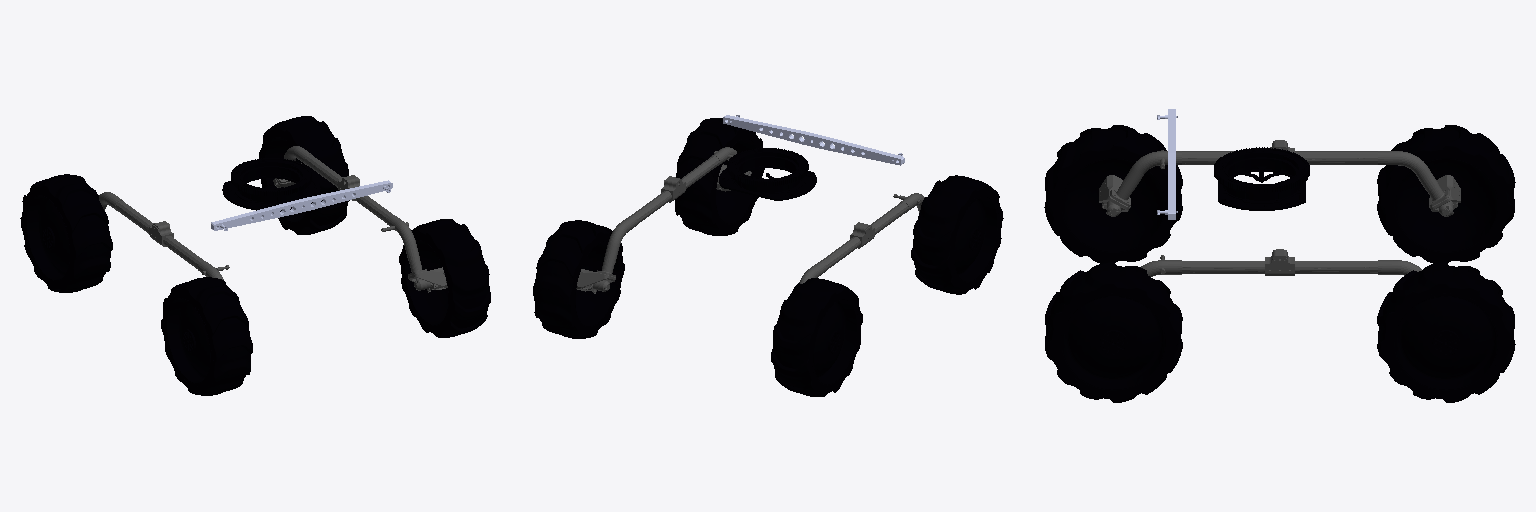
robot.urdf — core_rover_description:
<?xml version="1.0" encoding="utf-8"?>
<!-- This URDF was automatically created by SolidWorks to URDF Exporter! Originally created by [author] ([email redacted]) 
     Commit Version:   Build Version: 1.6.9403.28032
     For more information, please see http://wiki.ros.org/sw_urdf_exporter -->
<robot
  name="core_rover_description">

  <link
    name="base_link">
    <inertial>
      <origin
        xyz="-6.65913085716885E-06 0.109571969438869 -0.0865730790907174"
        rpy="0 0 0" />
      <mass
        value="75.3855391061812" />
      <inertia
        ixx="2.40019927956544"
        ixy="0.000116237424420155"
        ixz="-0.00156114013755156"
        iyy="2.05138658583389"
        iyz="0.00559155518698155"
        izz="4.26537268155378" />
    </inertial>
    <visual>
      <origin
        xyz="0 0 0"
        rpy="0 0 0" />
      <geometry>
        <mesh
          filename="package://core_rover_description/meshes/base_link.STL" />
      </geometry>
      <material
        name="">
        <color
          rgba="0.01764195448412081 0.013702083043526807 0.030713443727452196 1" />
      </material>
    </visual>
    <collision>
      <origin
        xyz="0 0 0"
        rpy="0 0 0" />
      <geometry>
        <mesh
          filename="package://core_rover_description/meshes/base_link.STL" />
      </geometry>
    </collision>
  </link>

  <link
    name="right_suspension_member">
    <inertial>
      <origin
        xyz="0.0011302 -0.12483 0.029359"
        rpy="0 0 0" />
      <mass
        value="1.7681" />
      <inertia
        ixx="0.0021448"
        ixy="-1.4957E-06"
        ixz="-2.5225E-08"
        iyy="0.0068473"
        iyz="0.00021191"
        izz="0.0058417" />
    </inertial>
    <visual>
      <origin
        xyz="0 0 0"
        rpy="0 0 0" />
      <geometry>
        <mesh
          filename="package://core_rover_description/meshes/right_suspension_member.STL" />
      </geometry>
      <material
        name="">
        <color
          rgba="0.35 0.35 0.35 1" />
      </material>
    </visual>
    <collision>
      <origin
        xyz="0 0 0"
        rpy="0 0 0" />
      <geometry>
        <mesh
          filename="package://core_rover_description/meshes/right_suspension_member.STL" />
      </geometry>
    </collision>
  </link>

  <joint
    name="right_suspension_joint"
    type="revolute">
    <origin
      xyz="-0.33067 0.028531 -0.15443"
      rpy="1.5708 0 -1.5708" />
    <parent
      link="base_link" />
    <child
      link="right_suspension_member" />
    <axis
      xyz="0 0 -1" />
    <limit
      lower="-0.38"
      upper="0.38"
      effort="0"
      velocity="0" />
    <mimic
      joint="left_suspension_joint"
      multiplier="1"
      offset="0" />
  </joint>

  <link
    name="br_wheel">
    <inertial>
      <origin
        xyz="-0.0476013497459569 -1.09801088221673E-08 6.12845485470359E-09"
        rpy="0 0 0" />
      <mass
        value="5.74175792756056" />
      <inertia
        ixx="0.115468209215025"
        ixy="7.19767266741869E-10"
        ixz="-2.90603405999934E-10"
        iyy="0.0647068246341468"
        iyz="7.16669744358495E-07"
        izz="0.0632464587169257" />
    </inertial>
    <visual>
      <origin
        xyz="0 0 0"
        rpy="0 0 0" />
      <geometry>
        <mesh
          filename="package://core_rover_description/meshes/br_wheel.STL" />
      </geometry>
      <material
        name="">
        <color
          rgba="0.01764195448412081 0.013702083043526807 0.030713443727452196 1" />
      </material>
    </visual>
    <collision>
      <origin
        xyz="0 0 0"
        rpy="0 0 0" />
      <geometry>
        <mesh
          filename="package://core_rover_description/meshes/br_wheel.STL" />
      </geometry>
    </collision>
  </link>

  <joint
    name="br_wheel_axis"
    type="continuous">
    <origin
      xyz="-0.41838 -0.17155 0.12984"
      rpy="0.52965 -1.5708 0" />
    <parent
      link="right_suspension_member" />
    <child
      link="br_wheel" />
    <axis
      xyz="1 0 0" />
  </joint>

  <link
    name="fr_wheel">
    <inertial>
      <origin
        xyz="-0.0476013497450763 -1.09822306249008E-08 6.12913009234717E-09"
        rpy="0 0 0" />
      <mass
        value="5.74175792767292" />
      <inertia
        ixx="0.115468209216444"
        ixy="7.20424942594475E-10"
        ixz="-2.90800382125705E-10"
        iyy="0.0647068246345494"
        iyz="7.16670201096685E-07"
        izz="0.063246458718483" />
    </inertial>
    <visual>
      <origin
        xyz="0 0 0"
        rpy="0 0 0" />
      <geometry>
        <mesh
          filename="package://core_rover_description/meshes/fr_wheel.STL" />
      </geometry>
      <material
        name="">
        <color
          rgba="0.01764195448412081 0.013702083043526807 0.030713443727452196 1" />
      </material>
    </visual>
    <collision>
      <origin
        xyz="0 0 0"
        rpy="0 0 0" />
      <geometry>
        <mesh
          filename="package://core_rover_description/meshes/fr_wheel.STL" />
      </geometry>
    </collision>
  </link>

  <joint
    name="fr_wheel_joint"
    type="continuous">
    <origin
      xyz="0.41838 -0.17155 0.12984"
      rpy="1.5769 -1.5708 0" />
    <parent
      link="right_suspension_member" />
    <child
      link="fr_wheel" />
    <axis
      xyz="1 0 0" />
  </joint>

  <link
    name="averaging_bar">
    <inertial>
      <origin
        xyz="5.12266309124314E-10 0.0103345512865068 6.28647148226413E-10"
        rpy="0 0 0" />
      <mass
        value="0.872230516841863" />
      <inertia
        ixx="0.000102234478668288"
        ixy="1.26173058927933E-11"
        ixz="-1.00509715989169E-11"
        iyy="0.0236921798518964"
        iyz="1.54032135551904E-11"
        izz="0.0236577000709469" />
    </inertial>
    <visual>
      <origin
        xyz="0 0 0"
        rpy="0 0 0" />
      <geometry>
        <mesh
          filename="package://core_rover_description/meshes/averaging_bar.STL" />
      </geometry>
      <material
        name="">
        <color
          rgba="0.792156862745098 0.819607843137255 0.933333333333333 1" />
      </material>
    </visual>
    <collision>
      <origin
        xyz="0 0 0"
        rpy="0 0 0" />
      <geometry>
        <mesh
          filename="package://core_rover_description/meshes/averaging_bar.STL" />
      </geometry>
    </collision>
  </link>

  <joint
    name="averaging_bar_axis"
    type="revolute">
    <origin
      xyz="0 -0.23362 -0.0508"
      rpy="0 -0.0060774 -3.1416" />
    <parent
      link="base_link" />
    <child
      link="averaging_bar" />
    <axis
      xyz="0 -1 0" />
    <limit
      lower="-0.38"
      upper="0.38"
      effort="0"
      velocity="0" />
    <mimic
      joint="left_suspension_joint"
      multiplier="-1"
      offset="0" />
  </joint>

  <link
    name="left_suspension_member">
    <inertial>
      <origin
        xyz="0 0 0"
        rpy="0 0 0" />
      <mass
        value="1.7681" />
      <inertia
        ixx="0"
        ixy="0"
        ixz="0"
        iyy="0"
        iyz="0"
        izz="0" />
    </inertial>
    <visual>
      <origin
        xyz="0 0 0"
        rpy="0 0 0" />
      <geometry>
        <mesh
          filename="package://core_rover_description/meshes/left_suspension_member.STL" />
      </geometry>
      <material
        name="">
        <color
          rgba="0.35 0.35 0.35 1" />
      </material>
    </visual>
    <collision>
      <origin
        xyz="0 0 0"
        rpy="0 0 0" />
      <geometry>
        <mesh
          filename="package://core_rover_description/meshes/left_suspension_member.STL" />
      </geometry>
    </collision>
  </link>

  <joint
    name="left_suspension_joint"
    type="revolute">
    <origin
      xyz="0.33067 0.028531 -0.15443"
      rpy="1.5708 0 1.5708" />
    <parent
      link="base_link" />
    <child
      link="left_suspension_member" />
    <axis
      xyz="0 0 -1" />
    <limit
      lower="-0.38"
      upper="0.38"
      effort="0"
      velocity="0" />
  </joint>

  <link
    name="bl_wheel">
    <inertial>
      <origin
        xyz="-0.0476013497470983 -1.09827822947217E-08 6.12940226352165E-09"
        rpy="0 0 0" />
      <mass
        value="5.7417579274106" />
      <inertia
        ixx="0.115468209213072"
        ixy="7.20585760708907E-10"
        ixz="-2.90859312873504E-10"
        iyy="0.0647068246335877"
        iyz="7.16669141063303E-07"
        izz="0.0632464587148044" />
    </inertial>
    <visual>
      <origin
        xyz="0 0 0"
        rpy="0 0 0" />
      <geometry>
        <mesh
          filename="package://core_rover_description/meshes/bl_wheel.STL" />
      </geometry>
      <material
        name="">
        <color
          rgba="0.01764195448412081 0.013702083043526807 0.030713443727452196 1" />
      </material>
    </visual>
    <collision>
      <origin
        xyz="0 0 0"
        rpy="0 0 0" />
      <geometry>
        <mesh
          filename="package://core_rover_description/meshes/bl_wheel.STL" />
      </geometry>
    </collision>
  </link>

  <joint
    name="bl_wheel_joint"
    type="continuous">
    <origin
      xyz="0.41838 -0.17155 0.12984"
      rpy="1.5769 -1.5708 0" />
    <parent
      link="left_suspension_member" />
    <child
      link="bl_wheel" />
    <axis
      xyz="1 0 0" />
  </joint>

  <link
    name="fl_wheel">
    <inertial>
      <origin
        xyz="-0.0476013497448114 -1.09827921201955E-08 6.12933048760311E-09"
        rpy="0 0 0" />
      <mass
        value="5.74175792770551" />
      <inertia
        ixx="0.115468209216877"
        ixy="7.20541990109492E-10"
        ixz="-2.90874836866816E-10"
        iyy="0.0647068246346634"
        iyz="7.16670369639572E-07"
        izz="0.06324645871897" />
    </inertial>
    <visual>
      <origin
        xyz="0 0 0"
        rpy="0 0 0" />
      <geometry>
        <mesh
          filename="package://core_rover_description/meshes/fl_wheel.STL" />
      </geometry>
      <material
        name="">
        <color
          rgba="0.01764195448412081 0.013702083043526807 0.030713443727452196 1" />
      </material>
    </visual>
    <collision>
      <origin
        xyz="0 0 0"
        rpy="0 0 0" />
      <geometry>
        <mesh
          filename="package://core_rover_description/meshes/fl_wheel.STL" />
      </geometry>
    </collision>
  </link>

  <joint
    name="fl_wheel_joint"
    type="continuous">
    <origin
      xyz="-0.418377874454344 -0.171553199039643 0.129841324042317"
      rpy="0.529654981264331 -1.5707963267949 0" />
    <parent
      link="left_suspension_member" />
    <child
      link="fl_wheel" />
    <axis
      xyz="1 0 0" />
  </joint>

</robot>

--- What the picture shows (computed from the rendered views, not written in the file) ---
3 views of the same robot in one strip: view 1: azimuth 30°, elevation 25°; view 2: azimuth 150°, elevation 25°; view 3: azimuth 270°, elevation 25° (orthographic).
Model core_rover_description with 8 links and 7 joints (3 revolute, 4 continuous), rooted at base_link, posed all joints at 0.
Visible links, largest first — view 1: fr_wheel, br_wheel, fl_wheel, bl_wheel, base_link, left_suspension_member, averaging_bar, right_suspension_member; view 2: fr_wheel, br_wheel, bl_wheel, fl_wheel, base_link, left_suspension_member, averaging_bar, right_suspension_member; view 3: fl_wheel, bl_wheel, br_wheel, fr_wheel, right_suspension_member, base_link, left_suspension_member, averaging_bar.
Boxes of the visible links, bbox=[...] form: fr_wheel: bbox=[161, 277, 252, 395]; br_wheel: bbox=[20, 174, 112, 292]; fl_wheel: bbox=[399, 219, 490, 337]; bl_wheel: bbox=[259, 116, 349, 234]; base_link: bbox=[222, 158, 320, 210]; left_suspension_member: bbox=[273, 146, 447, 292]; averaging_bar: bbox=[211, 180, 392, 230]; right_suspension_member: bbox=[99, 192, 229, 279]; fr_wheel: bbox=[911, 175, 1003, 294]; br_wheel: bbox=[771, 278, 862, 396]; bl_wheel: bbox=[533, 220, 624, 338]; fl_wheel: bbox=[675, 118, 764, 235]; base_link: bbox=[719, 148, 816, 200]; left_suspension_member: bbox=[576, 147, 751, 293]; averaging_bar: bbox=[723, 115, 904, 165]; right_suspension_member: bbox=[799, 193, 924, 283]; fl_wheel: bbox=[1045, 262, 1182, 402]; bl_wheel: bbox=[1377, 262, 1515, 402]; br_wheel: bbox=[1377, 125, 1515, 263]; fr_wheel: bbox=[1044, 125, 1182, 263]; right_suspension_member: bbox=[1099, 140, 1460, 216]; base_link: bbox=[1214, 147, 1309, 210]; left_suspension_member: bbox=[1141, 249, 1421, 276]; averaging_bar: bbox=[1157, 109, 1177, 219].
Size in the robot's own frame: 0.9497 by 1.19 by 0.467 metres.
8 mesh visuals loaded from 8 distinct referenced files (8 binary STL).